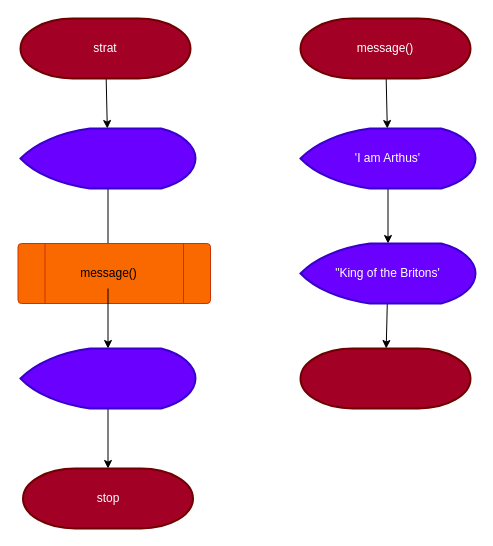
This 493x546 diagram has some shape labels left out. The centre of each missing label's shape, as x and y in pixels:
'Goodbye!': pixel 107 378
'I have a message for you': pixel 107 158
Retrun: pixel 385 378
